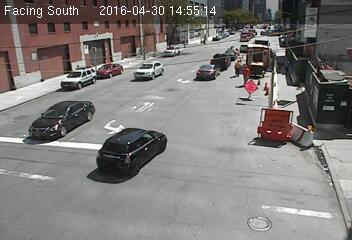neg: (118, 121, 137, 146), (66, 71, 84, 95), (281, 24, 299, 48), (169, 128, 185, 149), (173, 32, 189, 52), (235, 20, 250, 40), (283, 107, 297, 126), (47, 114, 60, 132), (137, 59, 150, 76), (308, 51, 318, 63)
pos: (231, 56, 246, 76), (240, 63, 253, 81), (280, 56, 292, 72), (273, 54, 285, 70)
